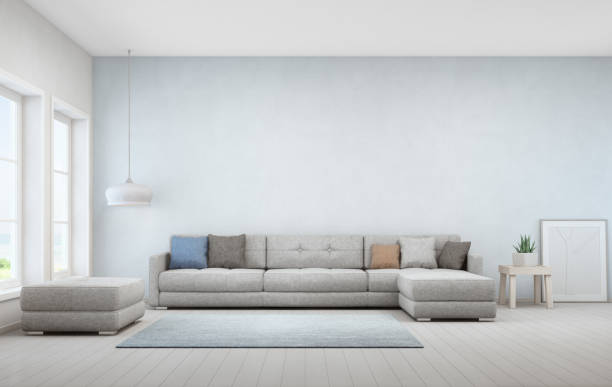chair: (17, 273, 147, 338)
side table: (497, 263, 553, 310)
small plant: (512, 230, 538, 267)
sofa: (143, 230, 500, 330)
wall art: (538, 215, 610, 305)
